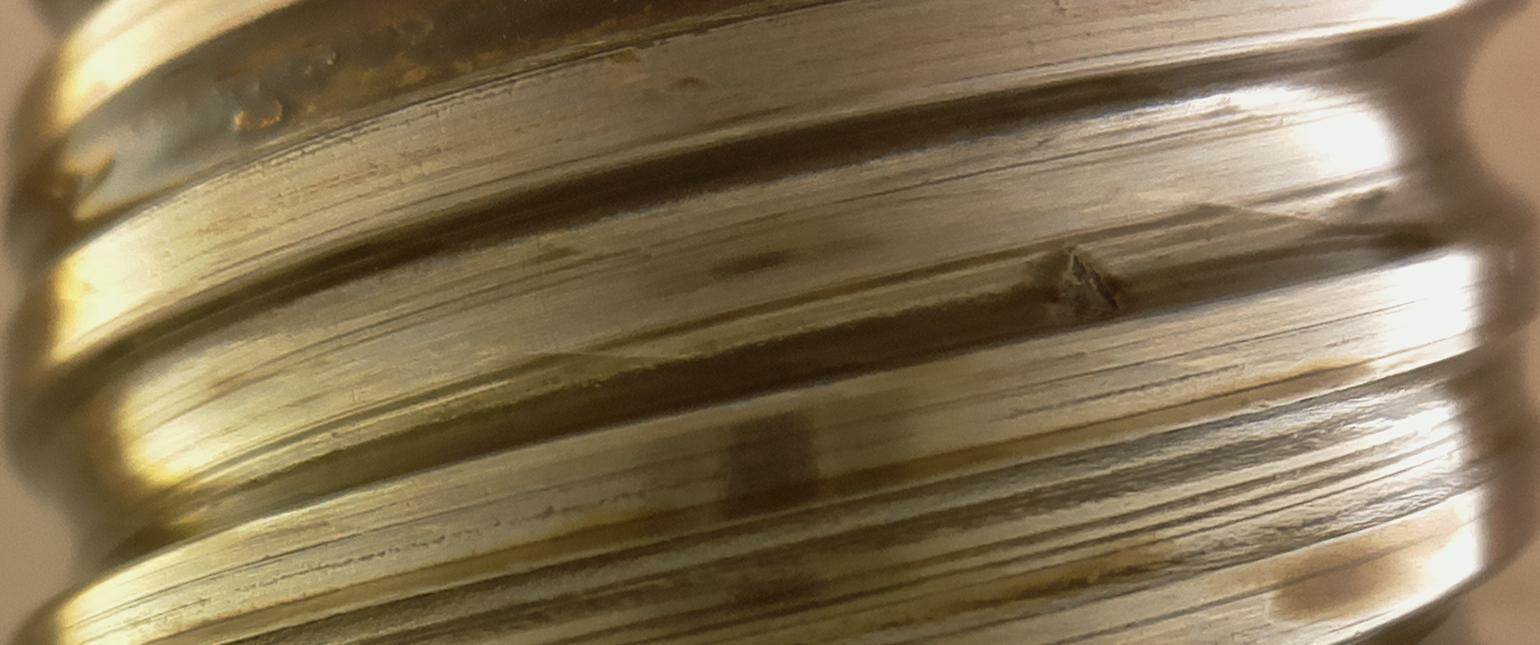pitting: (1069, 255, 1120, 313)
